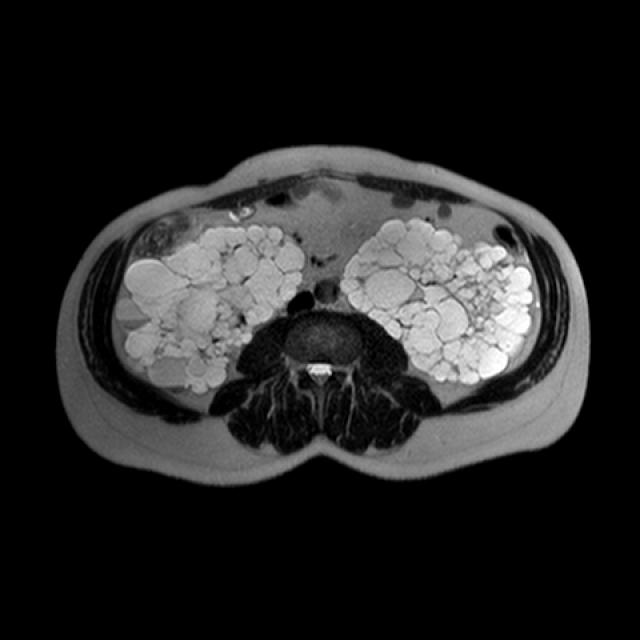sag: (116, 222, 311, 397)
sol: (340, 216, 539, 385)
